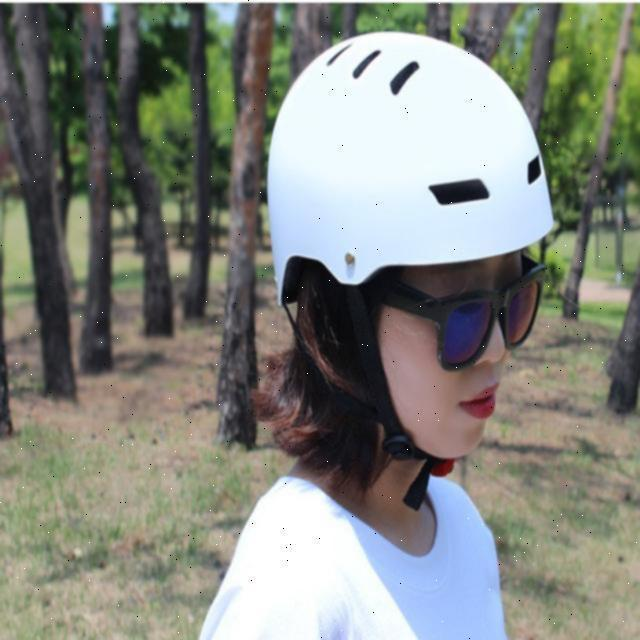helmet: (264, 34, 558, 516)
